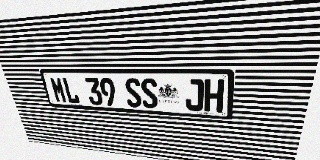3: (85, 77, 103, 105)
9: (99, 78, 117, 106)
H: (204, 79, 224, 113)
J: (185, 79, 204, 111)
L: (61, 77, 80, 104)
M: (49, 77, 68, 103)
S: (140, 78, 158, 109), (124, 78, 142, 108)
